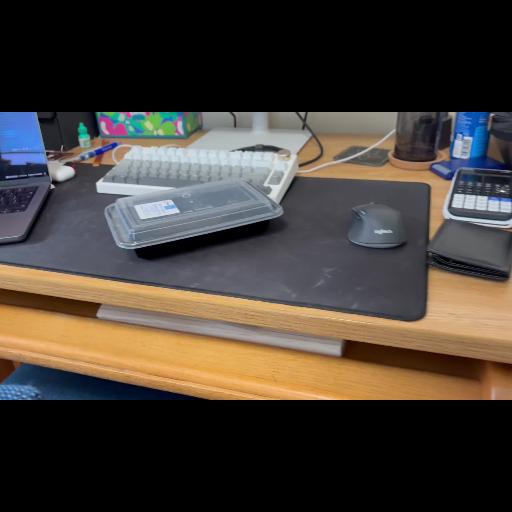rigid_plastic_container: (106, 178, 282, 252)
